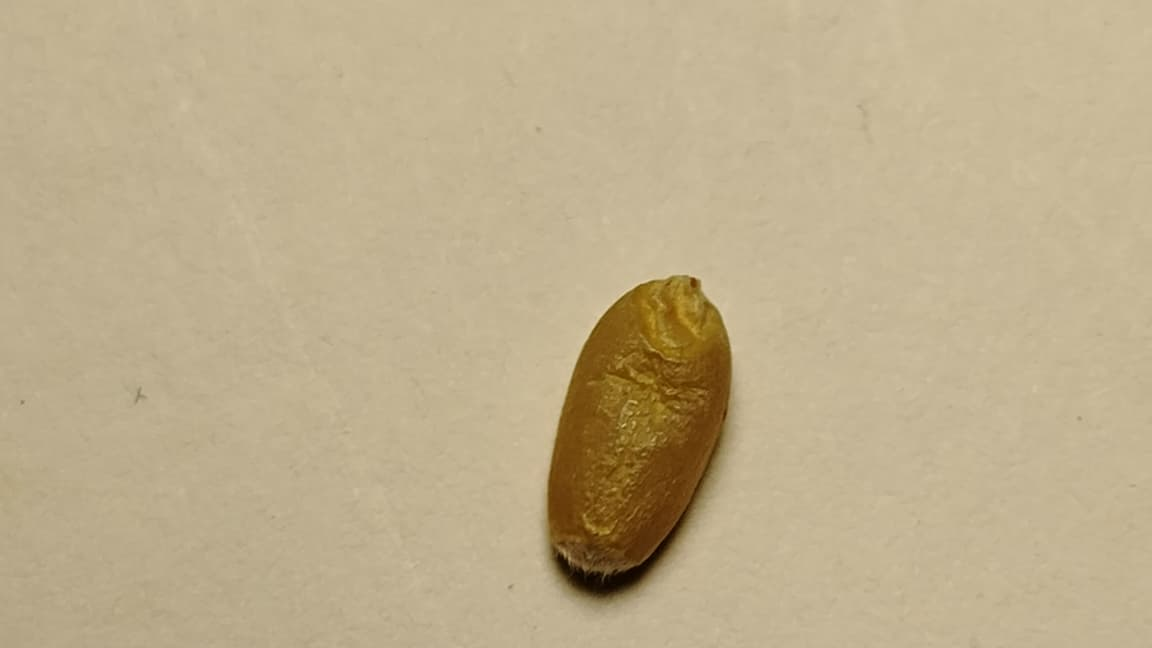healthy: (548, 275, 730, 579)
